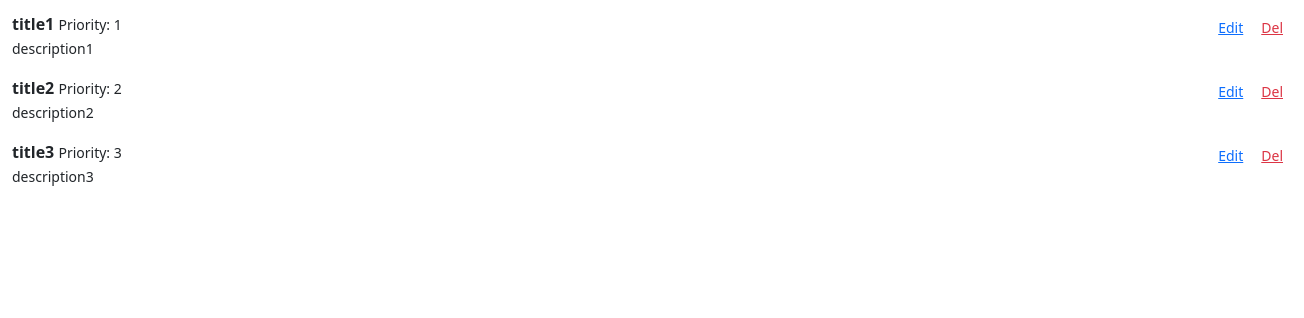
EditableTodoList component › contains correct Todo values
Step 1. Click the button with class "EditableTodo-toggle" in the row of "description1" → (1231,28), box [1209,12,1252,43]
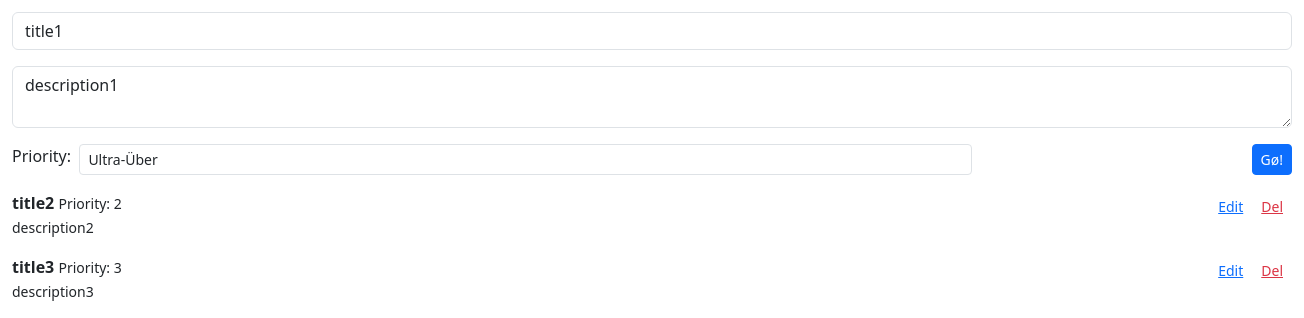
Now the number of buttons with class "EditableTodo-toggle" is 2, box [1209,191,1252,222]; [1209,255,1252,286]
